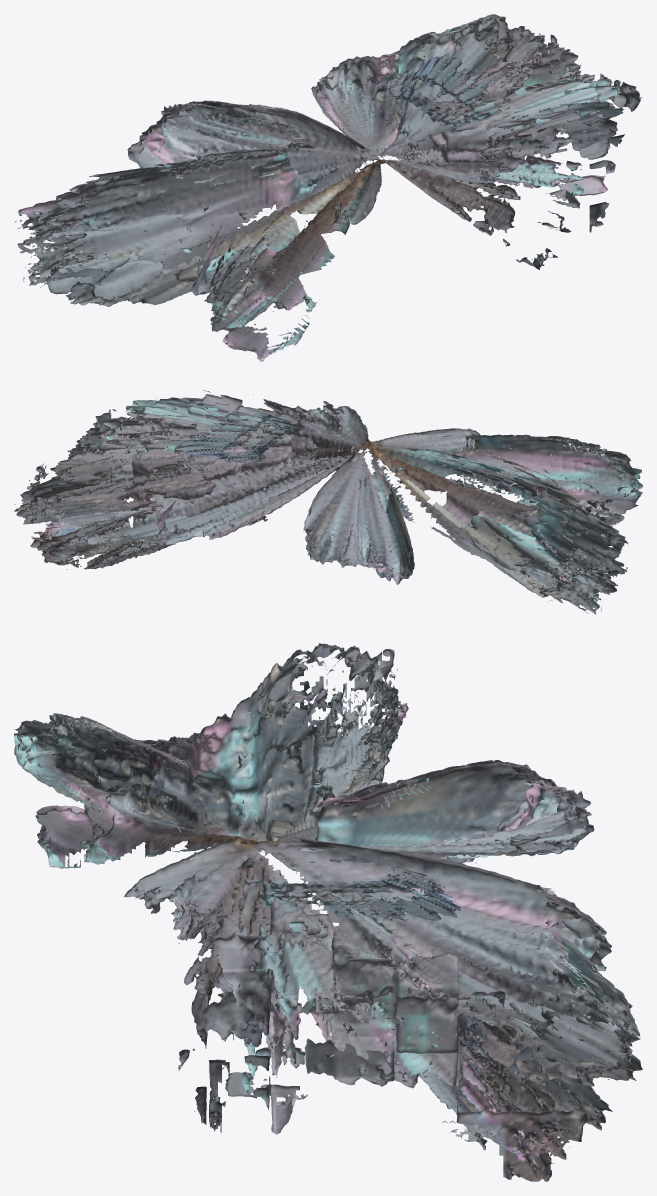
Rendered from gen-18.glb.
3 renders of one model, top to bottom at view 1: azimuth 30°, elevation 25°; view 2: azimuth 150°, elevation 25°; view 3: azimuth 270°, elevation 25°, orthographic. The views are drawn at different scales.
Visible parts, largest first — view 1: world; view 2: world; view 3: world.
Part boxes in pixels (x1,y1,x2,y2): world: (14, 14, 642, 361); world: (14, 390, 642, 614); world: (14, 643, 642, 1181).
Bounding box in the file's own units: 165 × 41 × 108.
